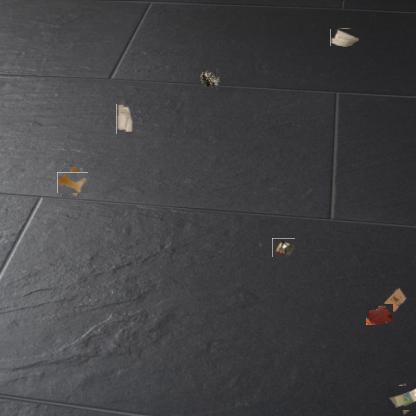dirty: (389, 384, 416, 413), (381, 286, 407, 312), (116, 104, 133, 134), (330, 29, 359, 46), (198, 68, 219, 90), (272, 238, 295, 257)
liquid: (59, 170, 86, 196), (365, 303, 393, 325)
